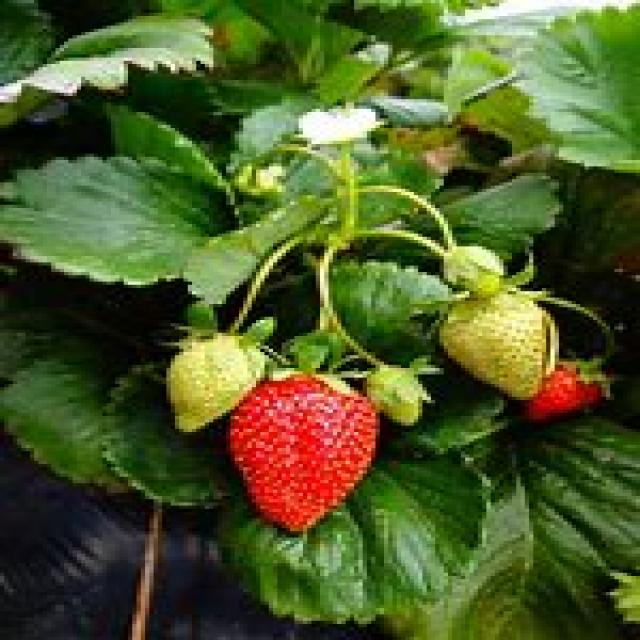strawberry: (236, 392, 380, 531), (441, 287, 556, 401)
